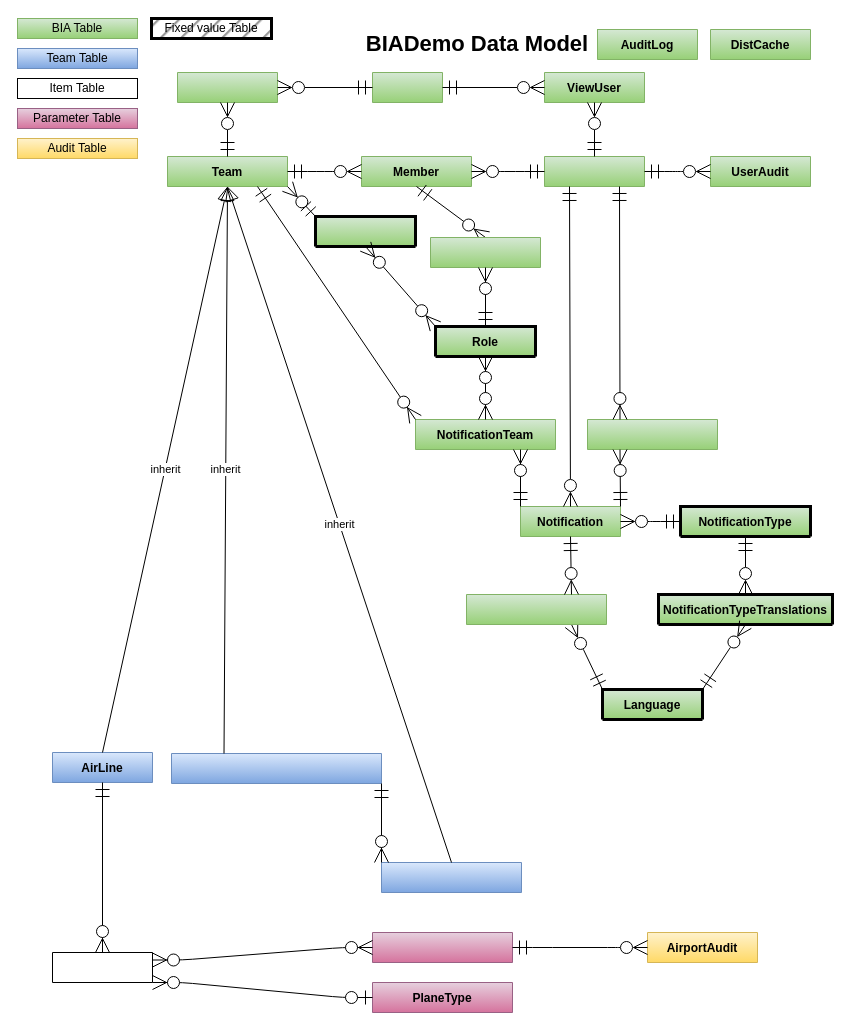
Some shapes in this 851 by 1030 pixel diagram are drawn without their labels. The centre of each missing label's shape, as x and y in pixels:
"AircraftMaintenanceCompany" belongs at point (276, 768).
"Airport" belongs at point (442, 947).
"MaintenanceTeam" belongs at point (451, 877).
"MemberRole" belongs at point (485, 252).
"NotificationTranslation" belongs at point (536, 609).
"NotificationUser" belongs at point (652, 434).
"Plane" belongs at point (102, 967).
"TeamTypes" belongs at point (365, 231).
"User" belongs at point (594, 171).
"View" belongs at point (407, 87).
"ViewTeam" belongs at point (227, 87).
